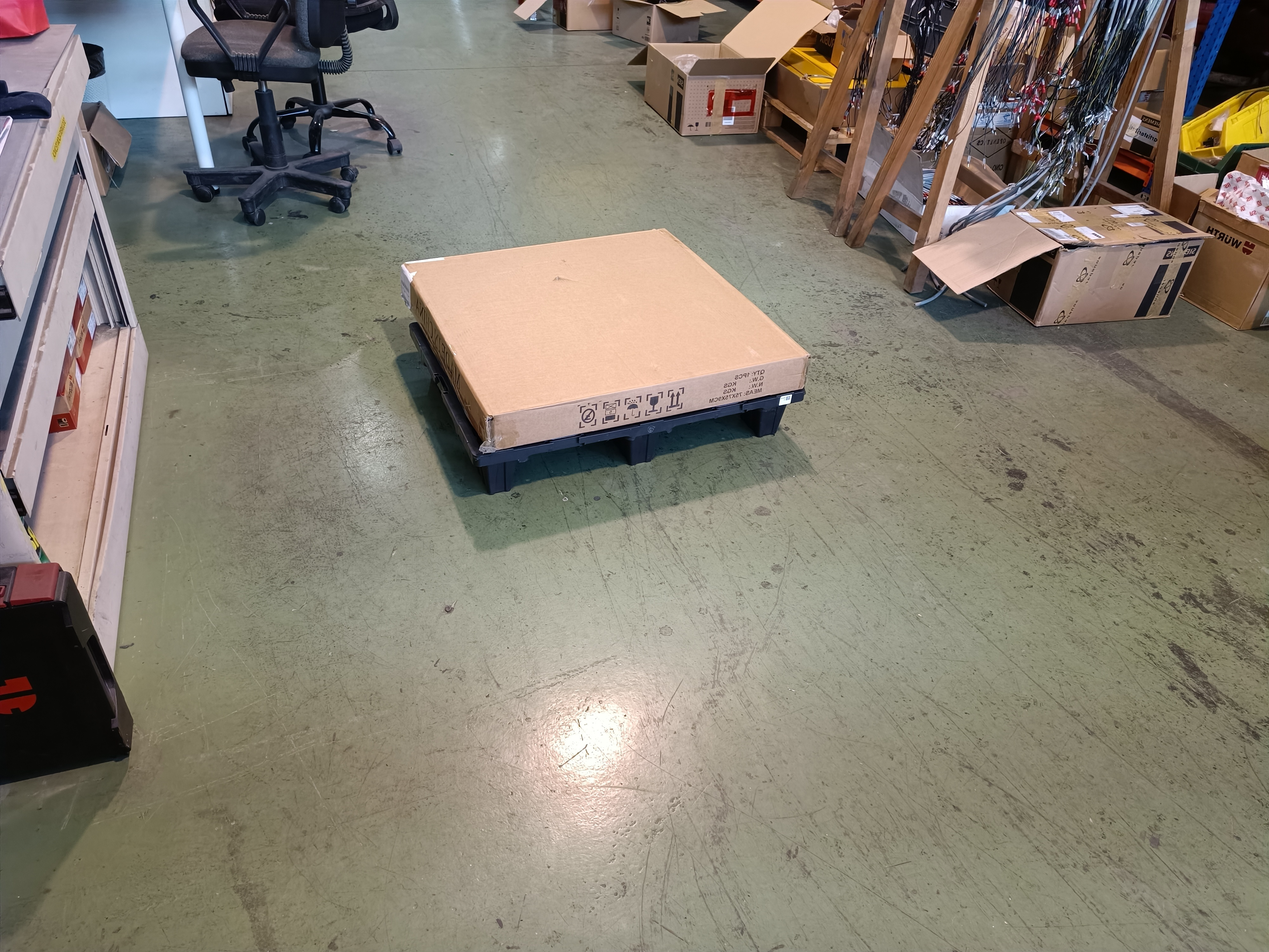block: (483, 450, 520, 492), (759, 392, 789, 442), (629, 423, 660, 466)
front: (470, 384, 821, 505)
hole pallet: (660, 401, 758, 459), (517, 438, 632, 487)
